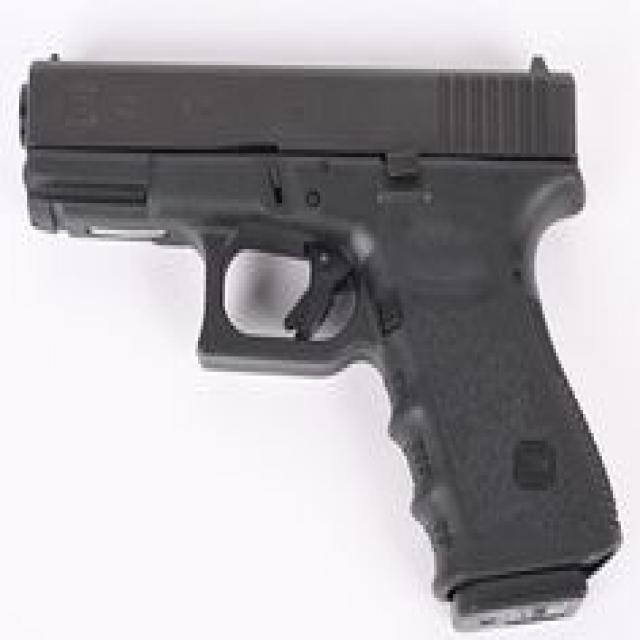semi automatic: (6, 38, 625, 640)
